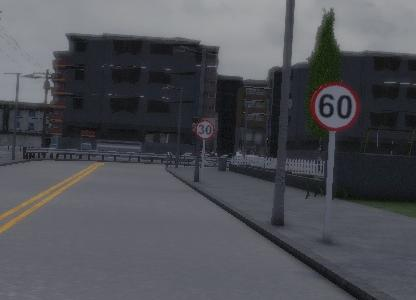Speed_60: (312, 82, 360, 131)
